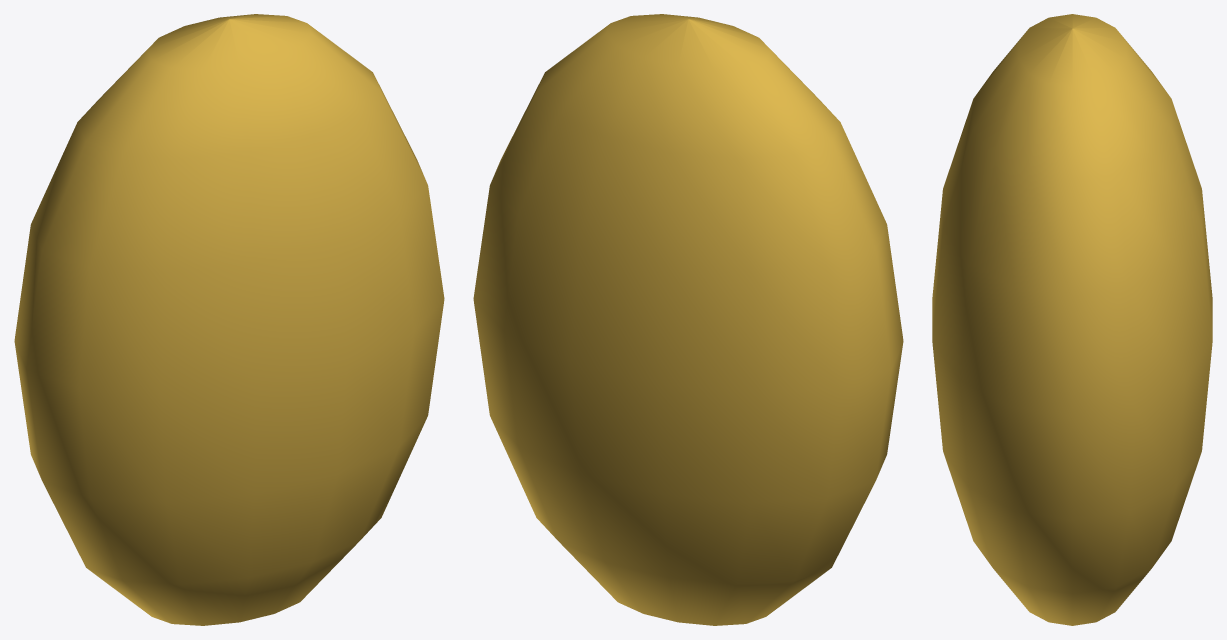
The model's file is spine.obj.
The picture shows the model from 3 angles, left to right: view 1: azimuth 30°, elevation 25°; view 2: azimuth 150°, elevation 25°; view 3: azimuth 270°, elevation 25°; orthographic projection. The views are drawn at different scales.
Parts seen in each view (by area): view 1: spine; view 2: spine; view 3: spine.
Part boxes in pixels (left/top/right/bottom): spine: left=14, top=14, right=444, bottom=625; spine: left=473, top=14, right=903, bottom=625; spine: left=932, top=14, right=1212, bottom=625.
Bounding box in the file's own units: 0.1646 × 0.2331 × 0.1016.
